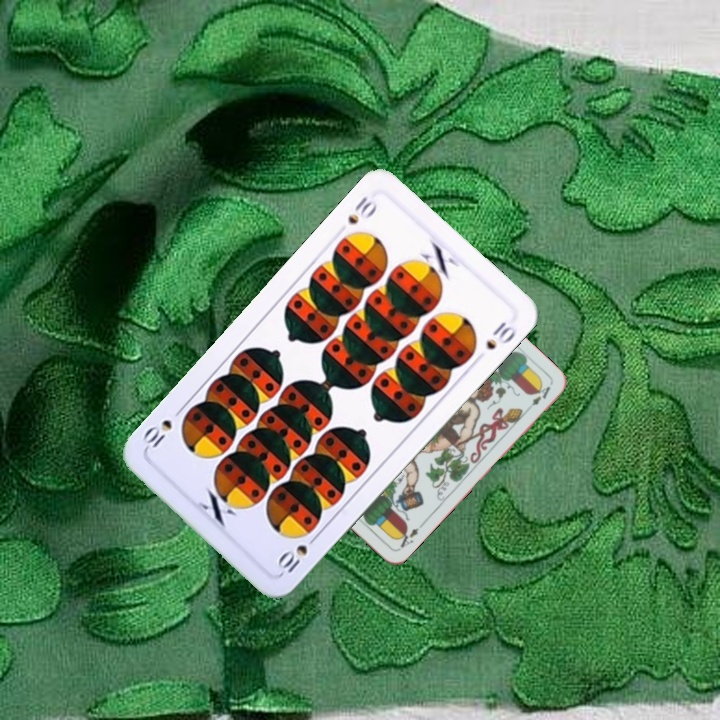EA: (393, 519, 426, 553)
S10: (273, 530, 322, 576), (343, 191, 380, 227)
